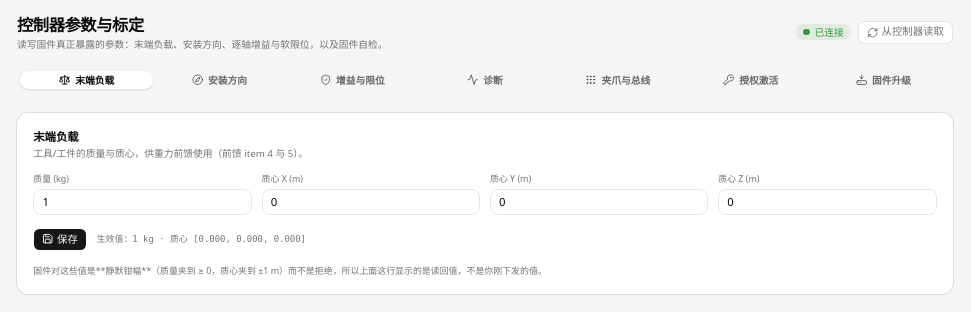
SettingsPage axis scaling › renders one joint row, with a usable save button, on a one-axis arm
expect the number field showing "1" is shown: met, box [33,189,252,215]
Press the mouse on the tab "增益与限位" at (352, 80), box [286,71,419,90]
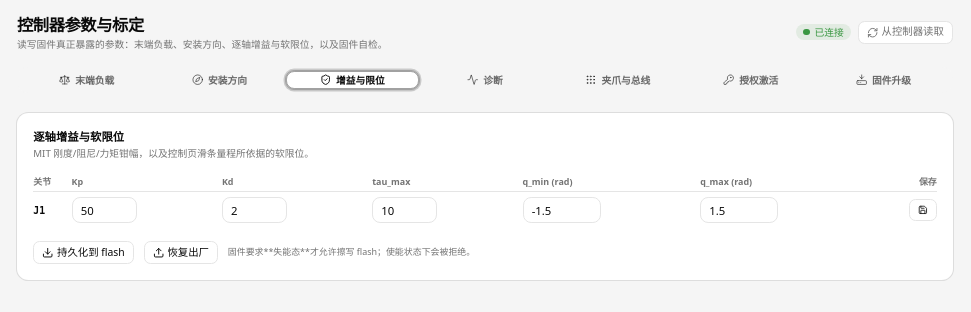
expect the number of rows is 2: met, box [33,173,937,192]; [33,192,937,228]
expect the text "J1" is shown once: met, box [33,192,72,228]
expect the 2nd button is enabled: met, box [909,199,937,222]
